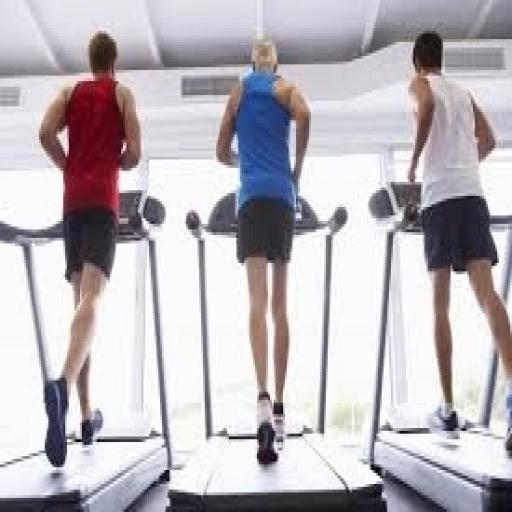running: (38, 28, 144, 467), (402, 28, 510, 456), (214, 34, 313, 467)
